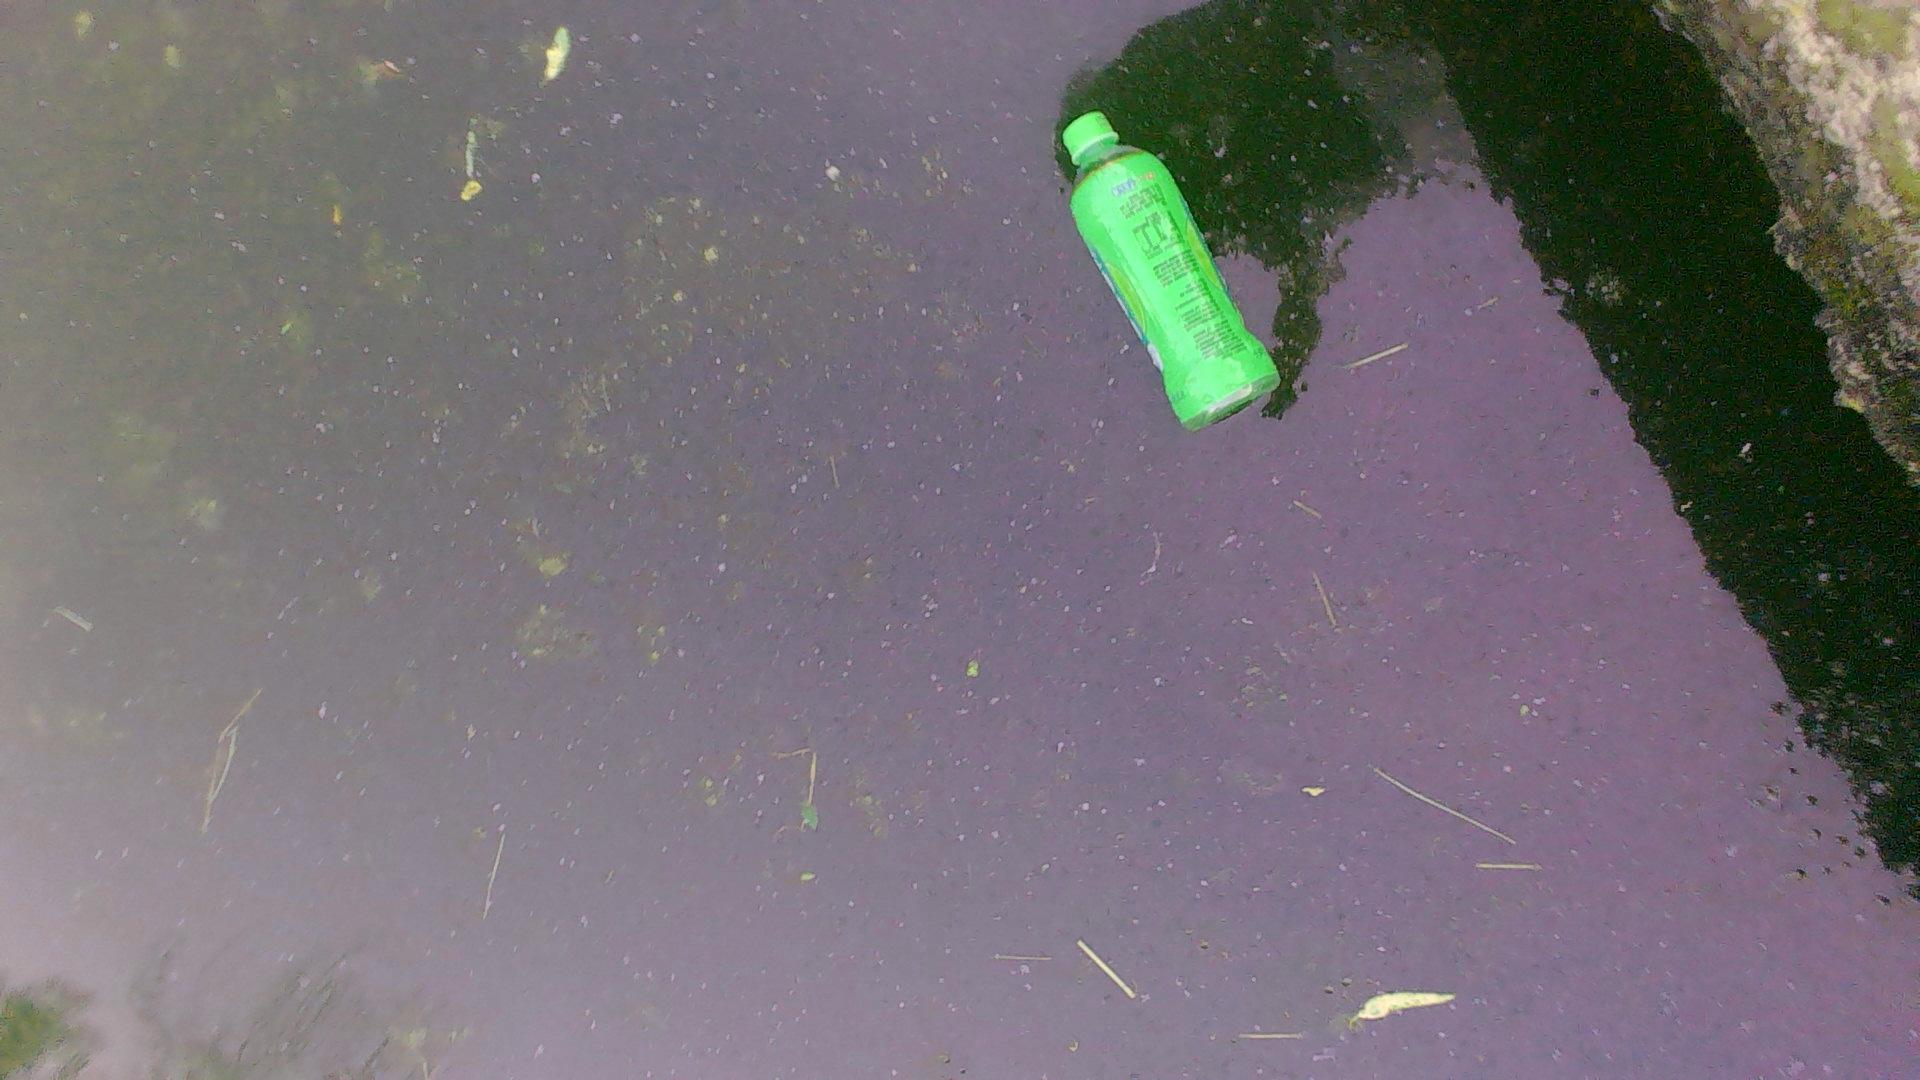Plastic: (1042, 98, 1298, 436)
